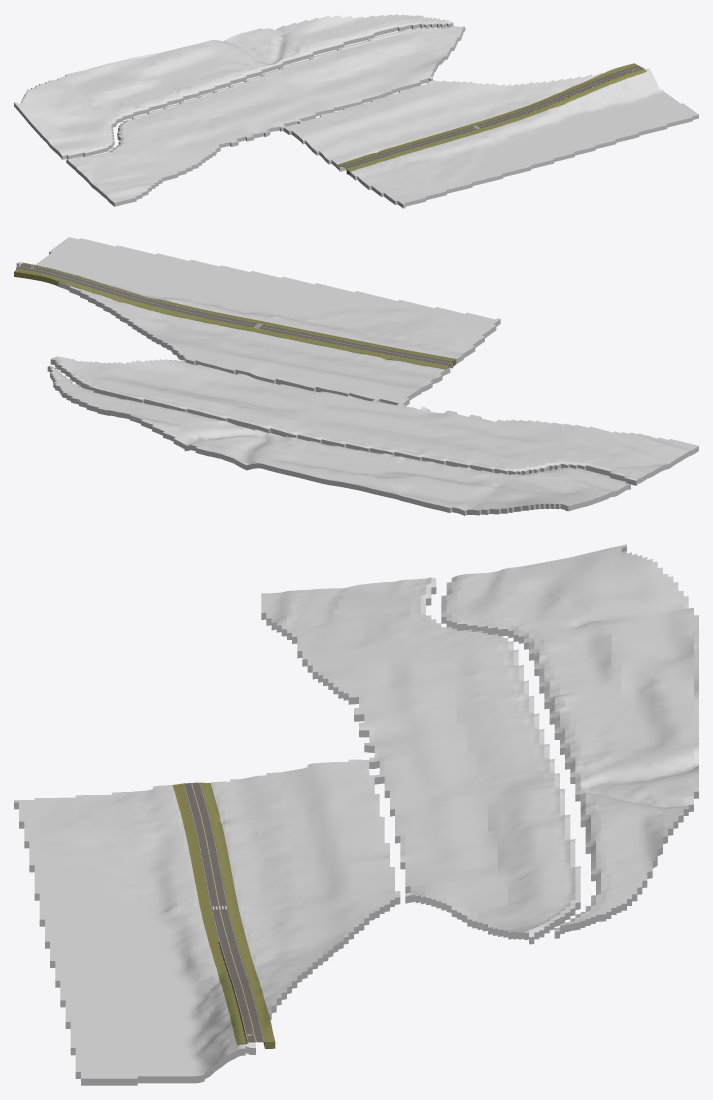
File: conz_91.glb
3 views of the same model, one above another, from view 1: azimuth 30°, elevation 25°; view 2: azimuth 150°, elevation 25°; view 3: azimuth 270°, elevation 25° (orthographic). The views are drawn at different scales.
Parts seen in each view (by area): view 1: terrain91, road91, verge91R, verge91L; view 2: terrain91, road91, verge91L, verge91R; view 3: terrain91, road91, verge91L, verge91R.
Boxes of the visible parts, left/top/right/bottom form: terrain91: left=14, top=14, right=698, bottom=208; road91: left=341, top=65, right=642, bottom=169; verge91R: left=346, top=68, right=646, bottom=174; verge91L: left=337, top=63, right=637, bottom=167; terrain91: left=16, top=237, right=698, bottom=515; road91: left=17, top=264, right=453, bottom=365; verge91L: left=14, top=269, right=448, bottom=369; verge91R: left=22, top=263, right=456, bottom=365; terrain91: left=14, top=544, right=698, bottom=1085; road91: left=183, top=782, right=264, bottom=1042; verge91L: left=200, top=782, right=275, bottom=1048; verge91R: left=172, top=783, right=247, bottom=1045.
Size of the model in its own units: 436 by 29.83 by 266.
